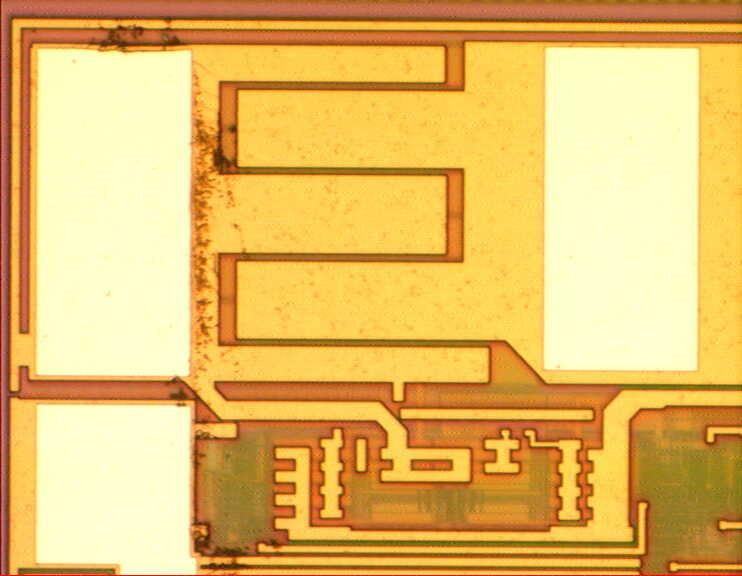SCRATCH: (83, 10, 289, 576)
